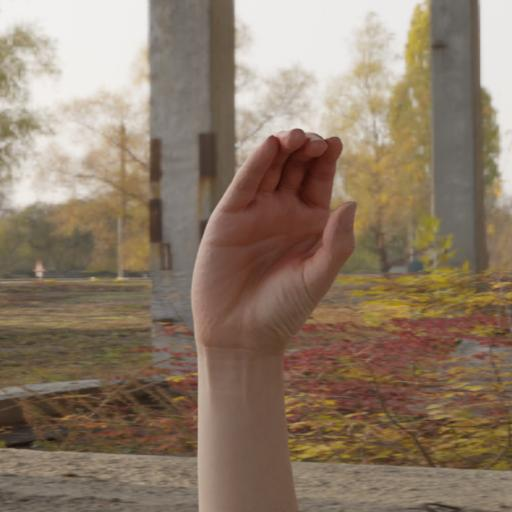C: (181, 120, 370, 384)
